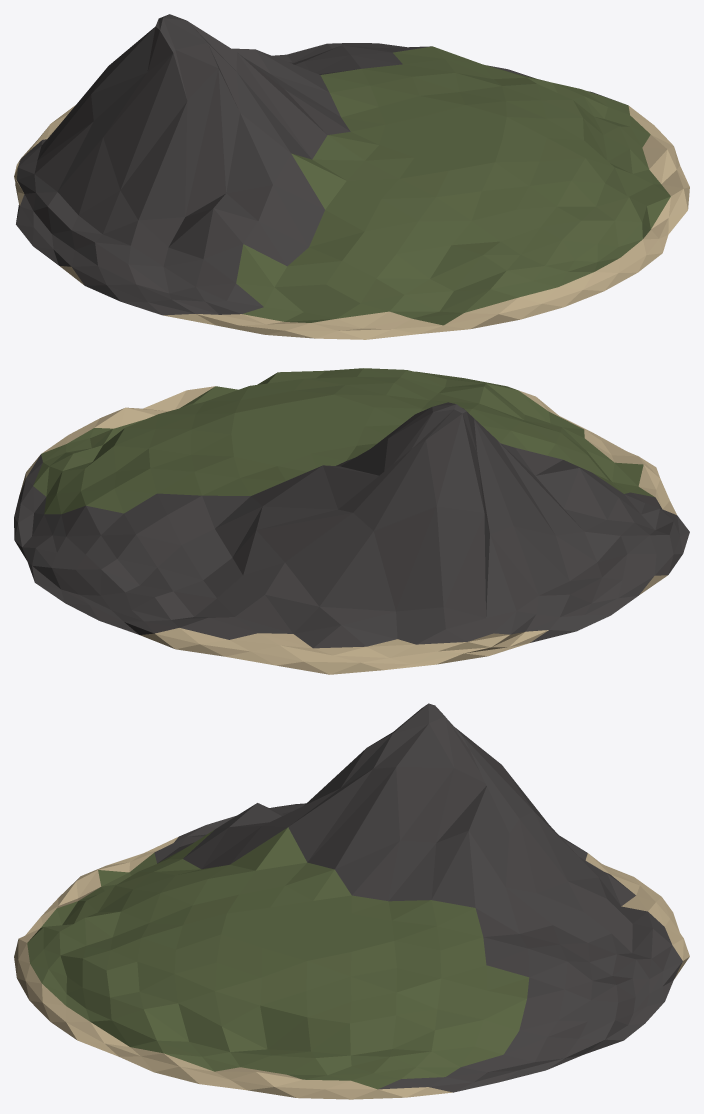
Rendered from Island.fbx.
The picture shows the model from 3 angles, top to bottom: view 1: azimuth 30°, elevation 25°; view 2: azimuth 150°, elevation 25°; view 3: azimuth 270°, elevation 25°; orthographic projection.
Visible parts, largest first — view 1: Icosphere; view 2: Icosphere; view 3: Icosphere.
Boxes of the visible parts, bbox=[...] form: Icosphere: bbox=[14, 14, 689, 339]; Icosphere: bbox=[14, 368, 689, 674]; Icosphere: bbox=[14, 703, 689, 1099].
Bounding box in the file's own units: 1987 × 613 × 1997.
